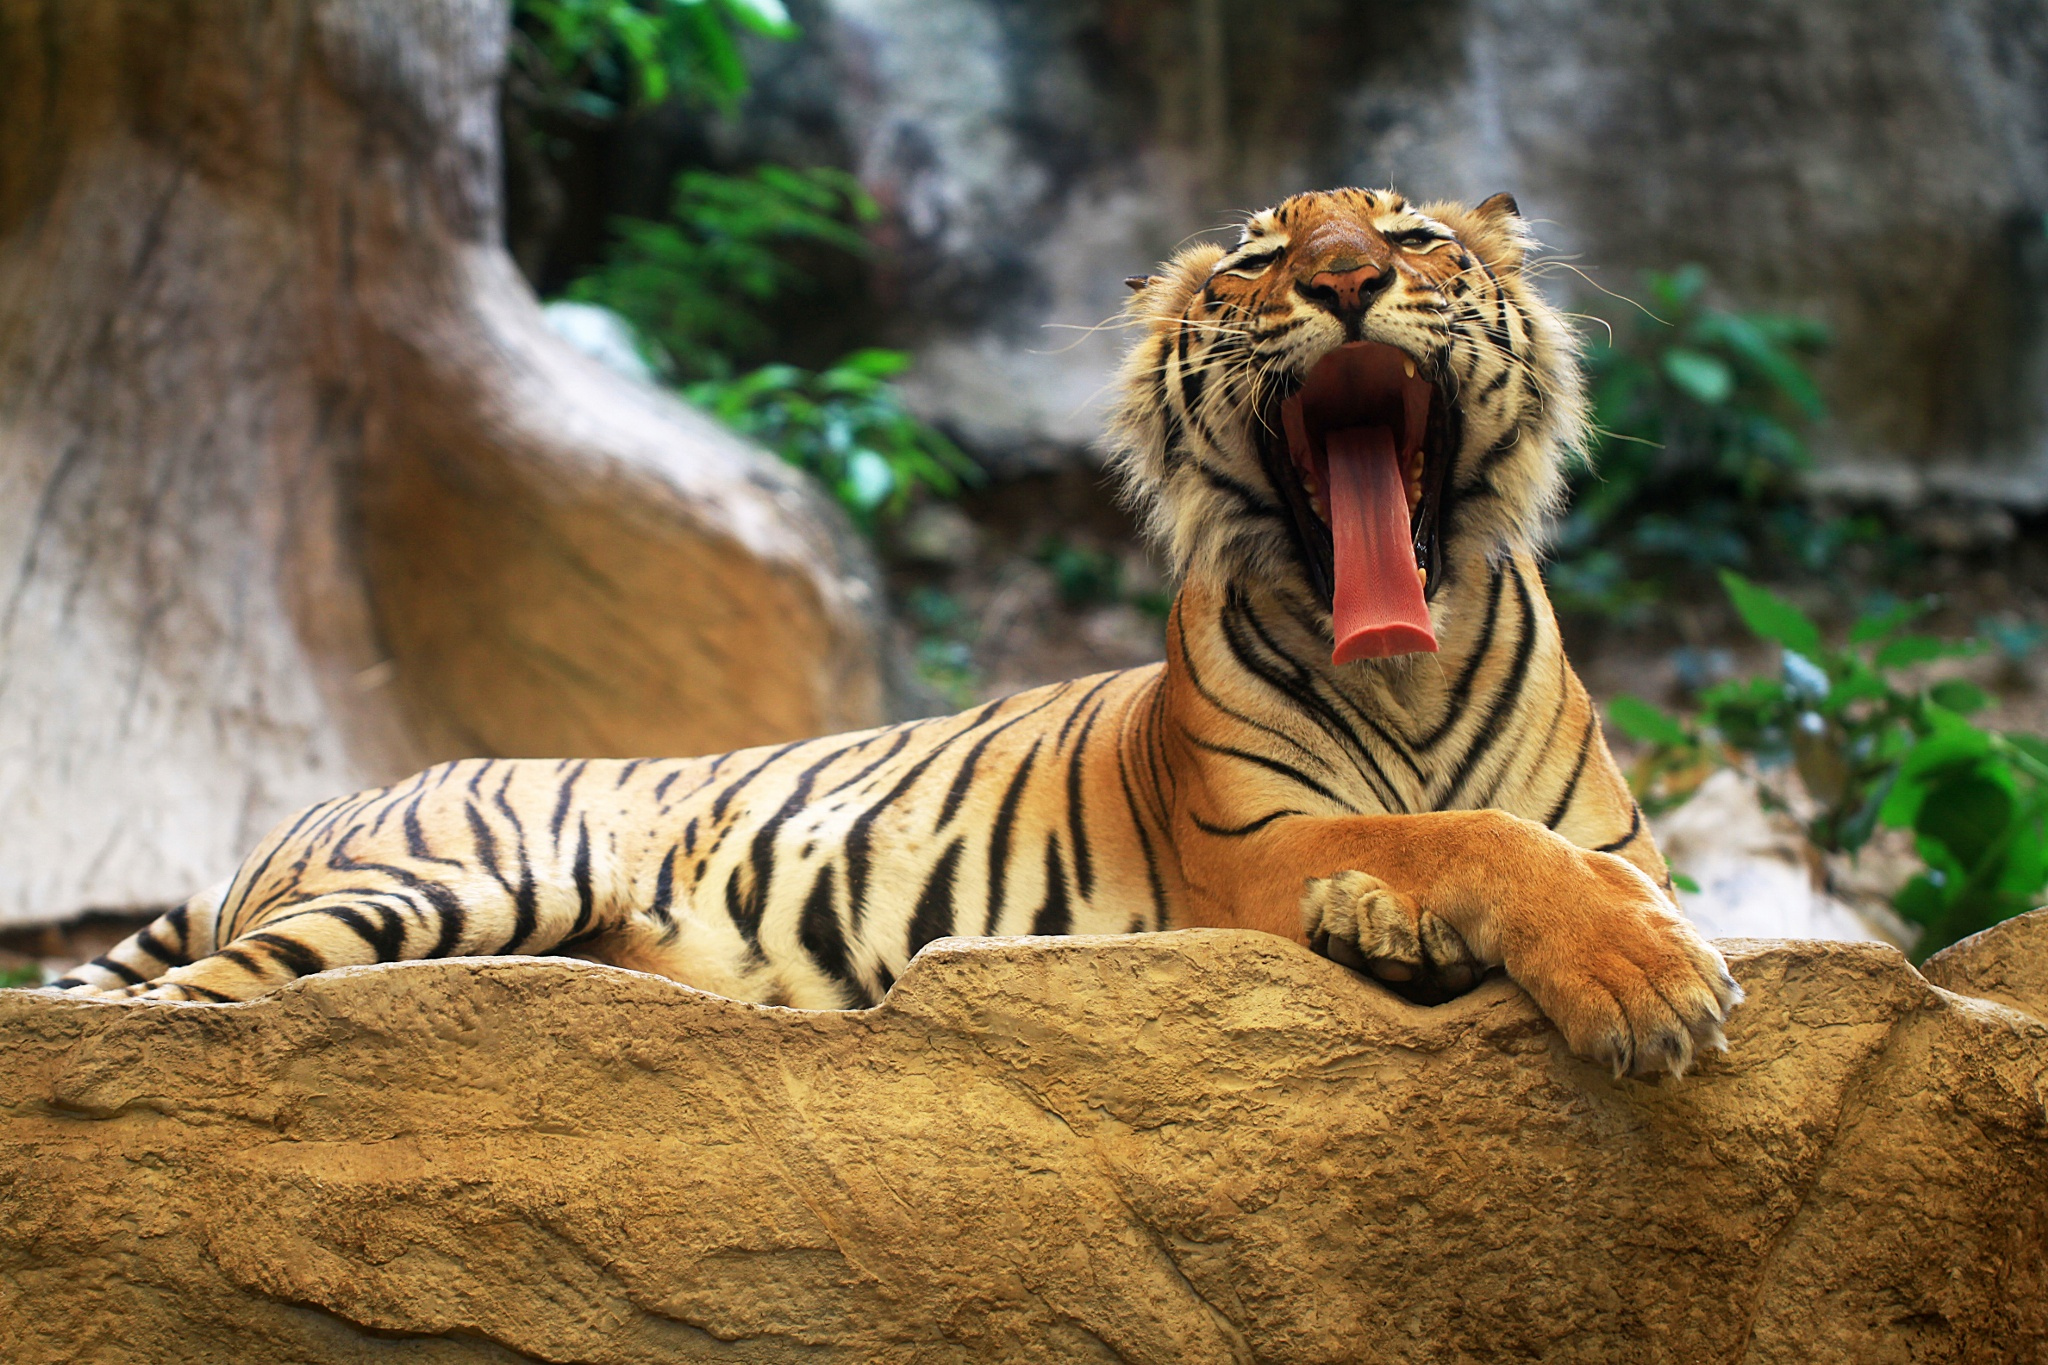tiger: (210, 178, 1804, 1080)
